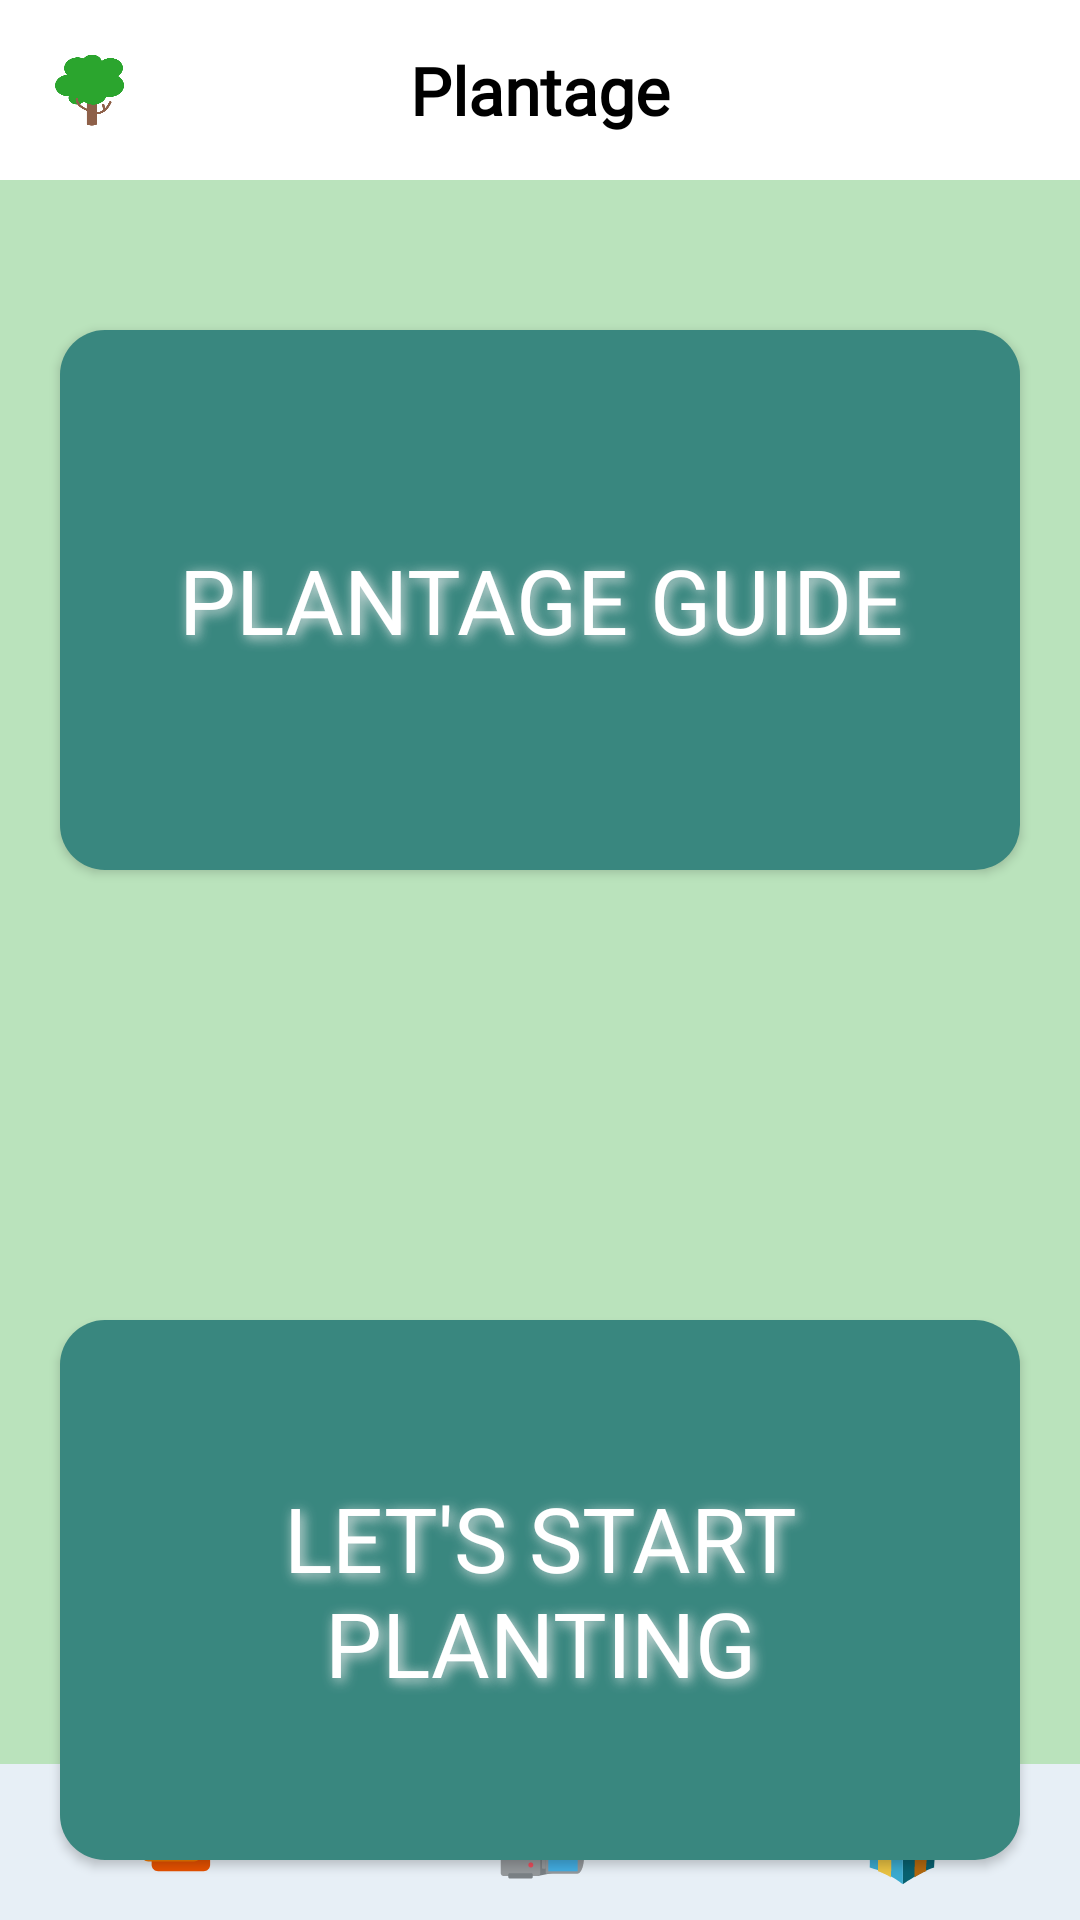

Locate icon controls on the screen. Image size 1080w x 1920h, boxes as (x1, y1, x2, y2).
tree: (55, 55, 124, 126)
